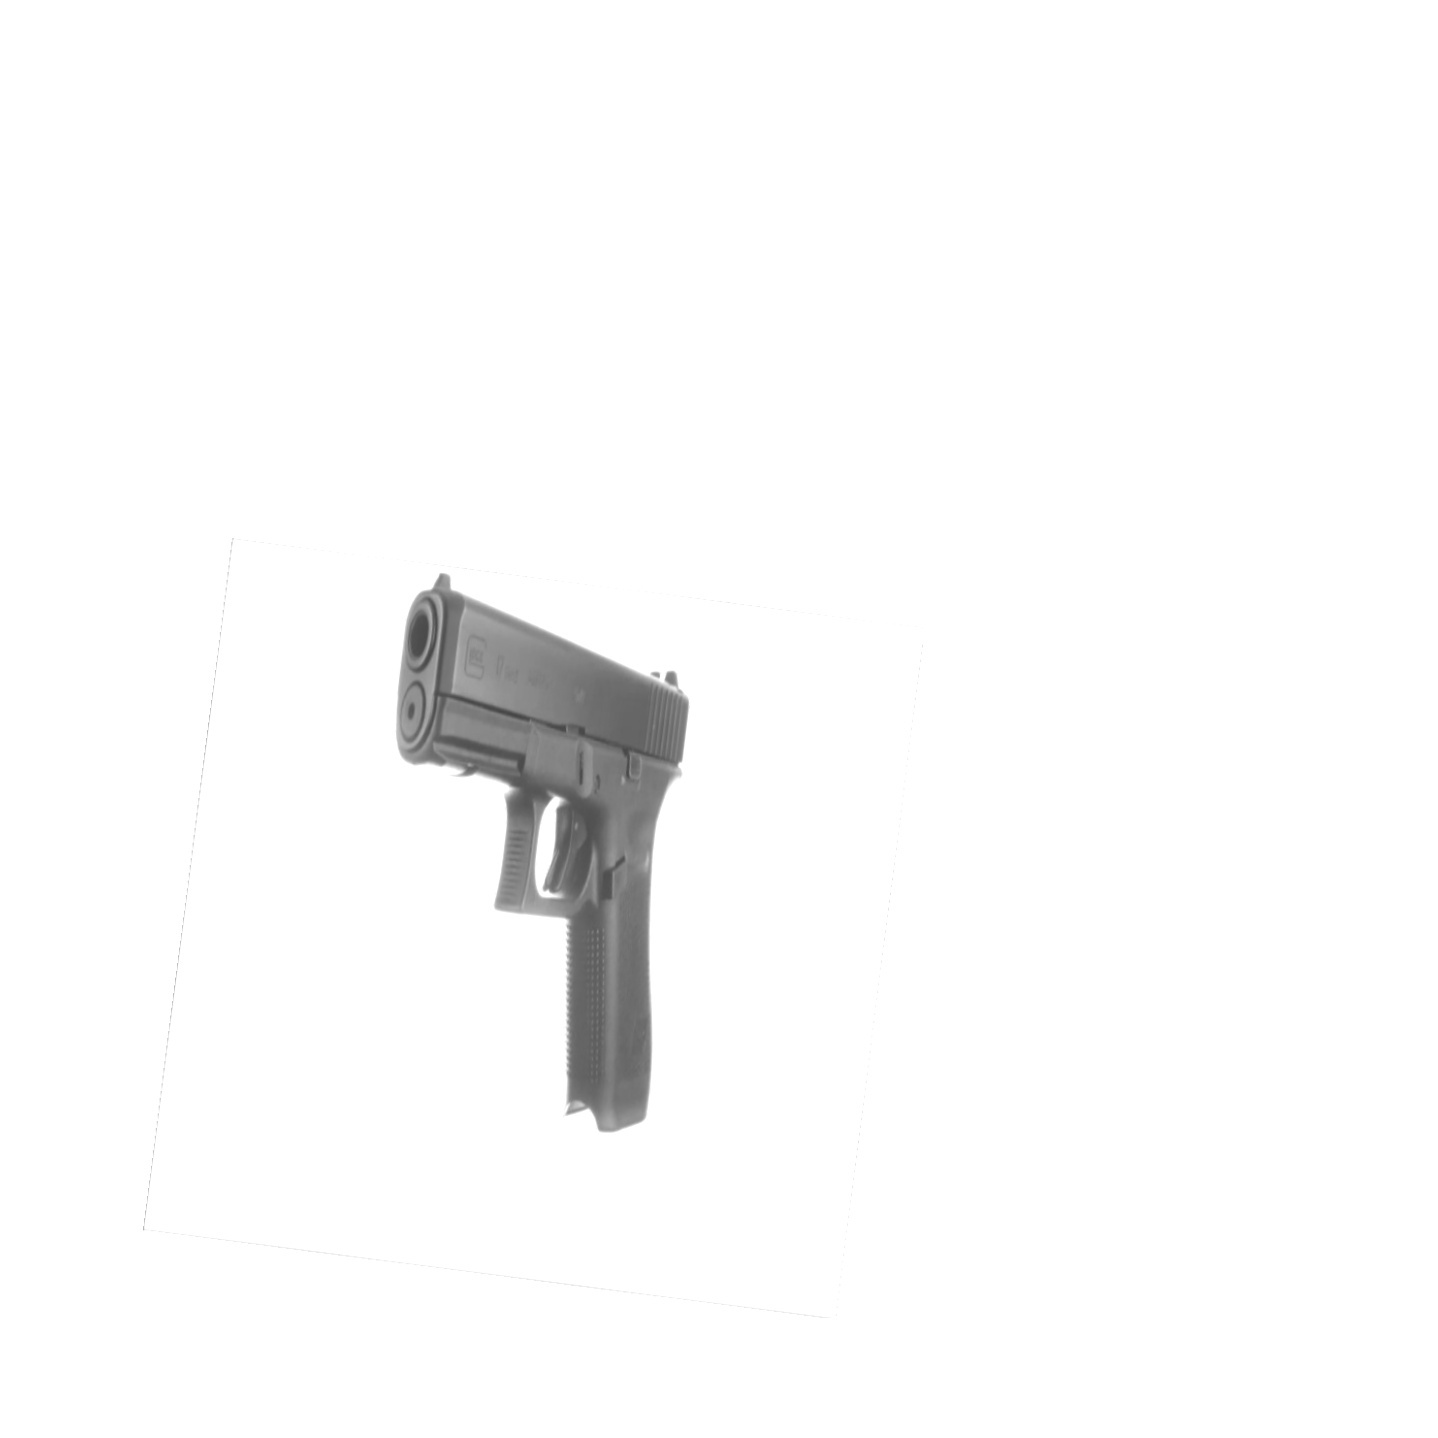gun: (388, 572, 697, 1138)
